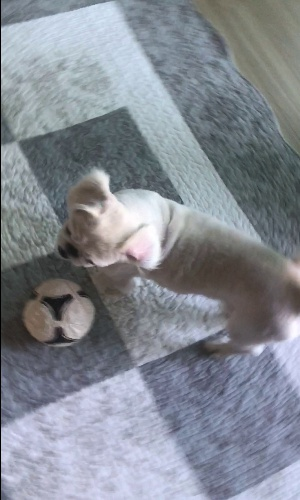ddubi: (52, 165, 300, 359)
